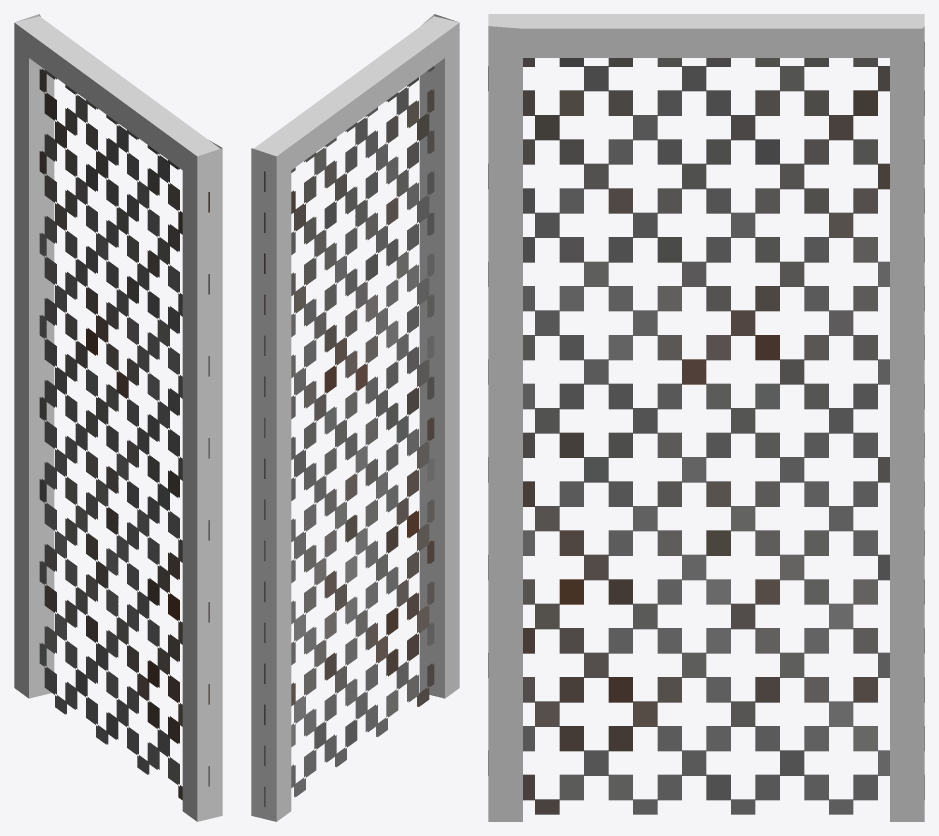
Rendered from chaindoor.fbx.
3 renders of one model, left to right at view 1: azimuth 30°, elevation 25°; view 2: azimuth 150°, elevation 25°; view 3: azimuth 270°, elevation 25°, orthographic. The views are drawn at different scales.
Visible parts, largest first — view 1: Cube.002, Plane.002; view 2: Cube.002, Plane.002; view 3: Plane.002, Cube.002.
Boxes of the visible parts, box(x1,y1,x2,y2) form: Cube.002: box(14, 14, 222, 821); Plane.002: box(39, 69, 209, 800); Cube.002: box(251, 14, 459, 821); Plane.002: box(264, 66, 434, 807); Plane.002: box(488, 42, 924, 814); Cube.002: box(488, 14, 924, 821).
Bounding box in the file's own units: 21.76 × 547 × 272.
